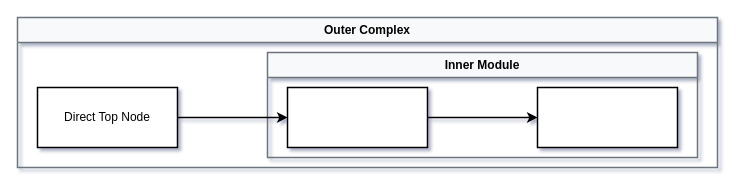
This 742x192 diagram has some shape labels left out. The shapes that lost their labels are listed below. From the top down, each one's centre as x and y in pixels, then its label:
[357,117]: Deep Node 1
[607,117]: Deep Node 2
